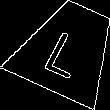L_NE: (41, 20, 95, 78)
